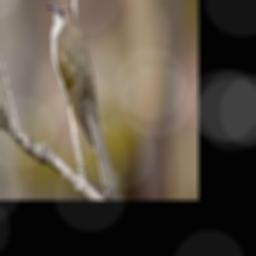Cuckoo: (46, 1, 121, 200)
